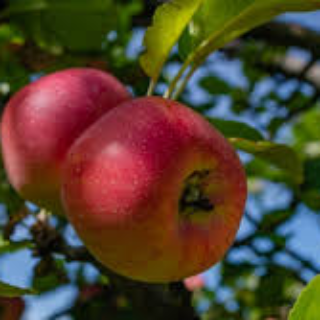tao: (58, 93, 252, 288)
